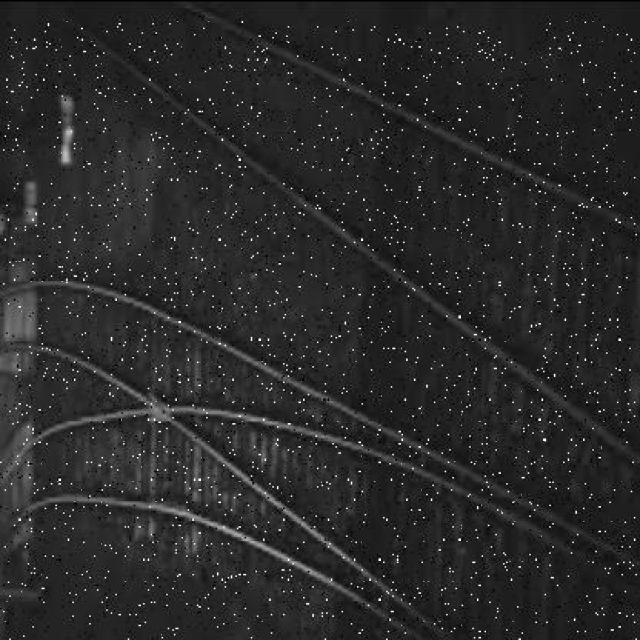rail: (1, 18, 637, 640)
